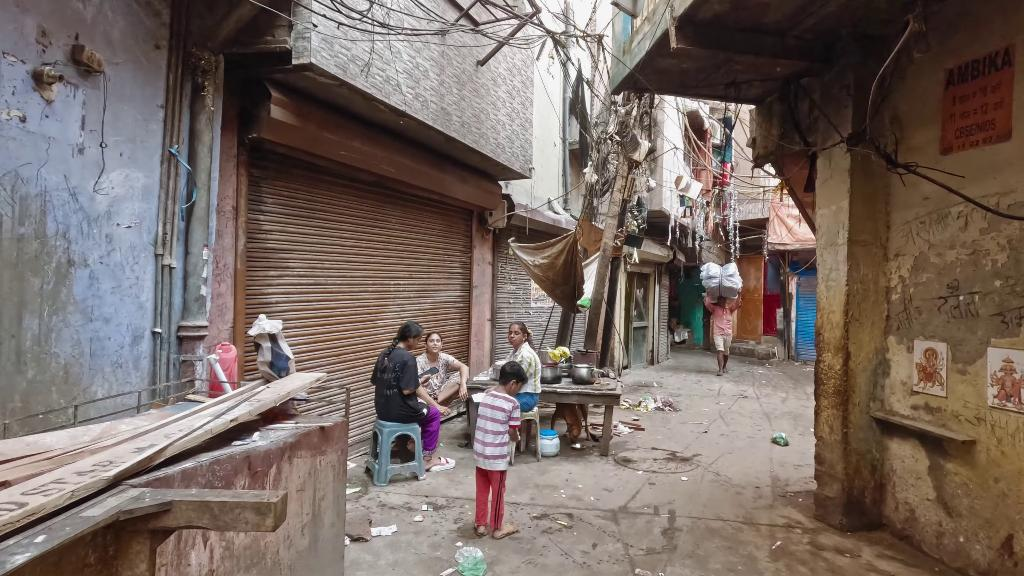garbage: (453, 546, 490, 576), (368, 523, 398, 537), (548, 346, 570, 362), (772, 431, 789, 447), (616, 421, 631, 433), (421, 505, 434, 512)
